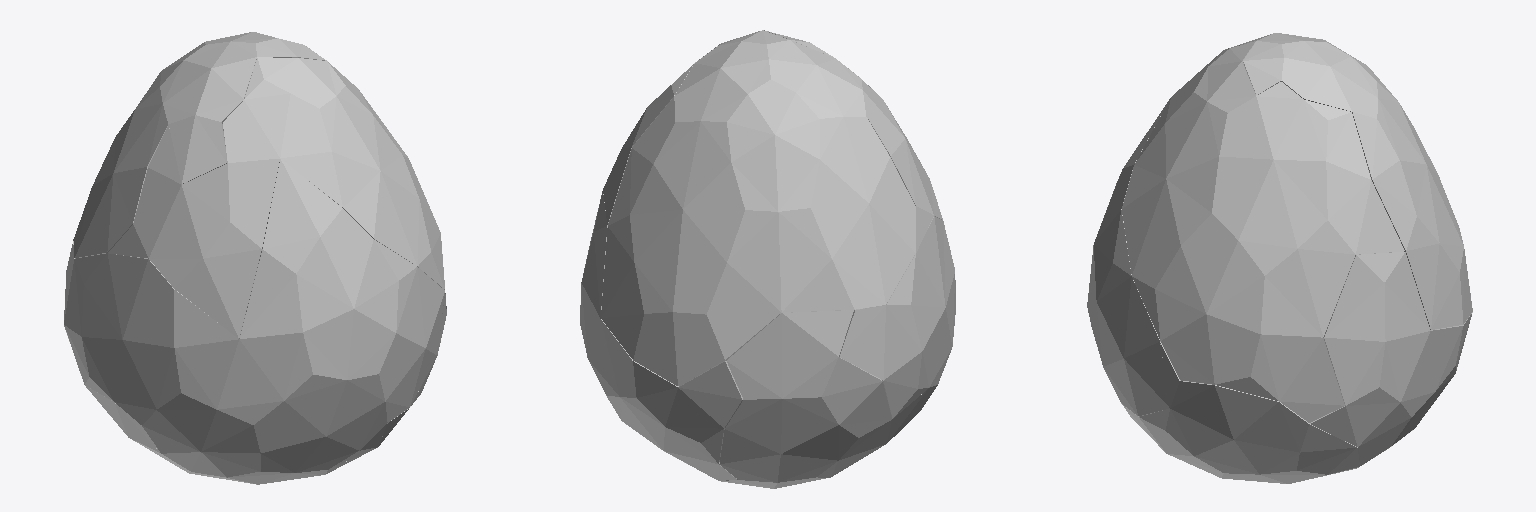
File: egg.obj
3 renders of one model, left to right at view 1: azimuth 30°, elevation 25°; view 2: azimuth 150°, elevation 25°; view 3: azimuth 270°, elevation 25°, orthographic.
Visible parts, largest first — view 1: shard1 surfaceShatter, surfaceShatter shard5, surfaceShatter shard3, surfaceShatter shard2; view 2: surfaceShatter shard3, surfaceShatter shard2, surfaceShatter shard4, shard1 surfaceShatter, surfaceShatter shard5; view 3: surfaceShatter shard5, surfaceShatter shard3, surfaceShatter shard4, surfaceShatter shard2, shard1 surfaceShatter.
Boxes of the visible parts, <box> form: shard1 surfaceShatter: <box>64,159,444,484</box>; surfaceShatter shard5: <box>108,46,446,338</box>; surfaceShatter shard3: <box>73,32,326,258</box>; surfaceShatter shard2: <box>66,294,446,474</box>; surfaceShatter shard3: <box>601,30,915,385</box>; surfaceShatter shard2: <box>622,310,928,488</box>; surfaceShatter shard4: <box>580,191,742,480</box>; shard1 surfaceShatter: <box>839,216,955,418</box>; surfaceShatter shard5: <box>603,30,942,252</box>; surfaceShatter shard5: <box>1122,41,1404,422</box>; surfaceShatter shard3: <box>1228,33,1472,329</box>; surfaceShatter shard4: <box>1310,252,1472,465</box>; surfaceShatter shard2: <box>1122,342,1412,483</box>; shard1 surfaceShatter: <box>1087,99,1169,451</box>.
Size of the model in its own units: 10.16 by 12.53 by 10.32.